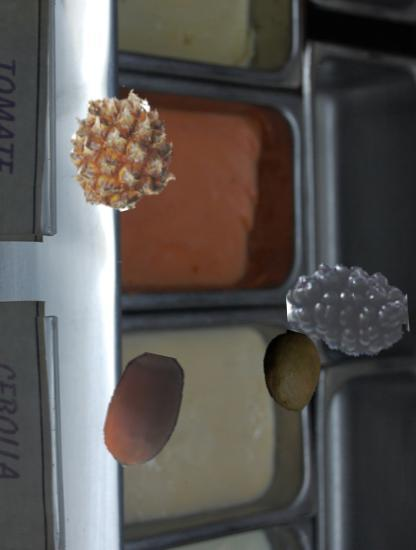Hazelnut: (83, 352, 201, 470)
Mulberry: (287, 249, 409, 371)
Papaya: (251, 332, 330, 411)
Pineapple: (61, 92, 179, 210)
